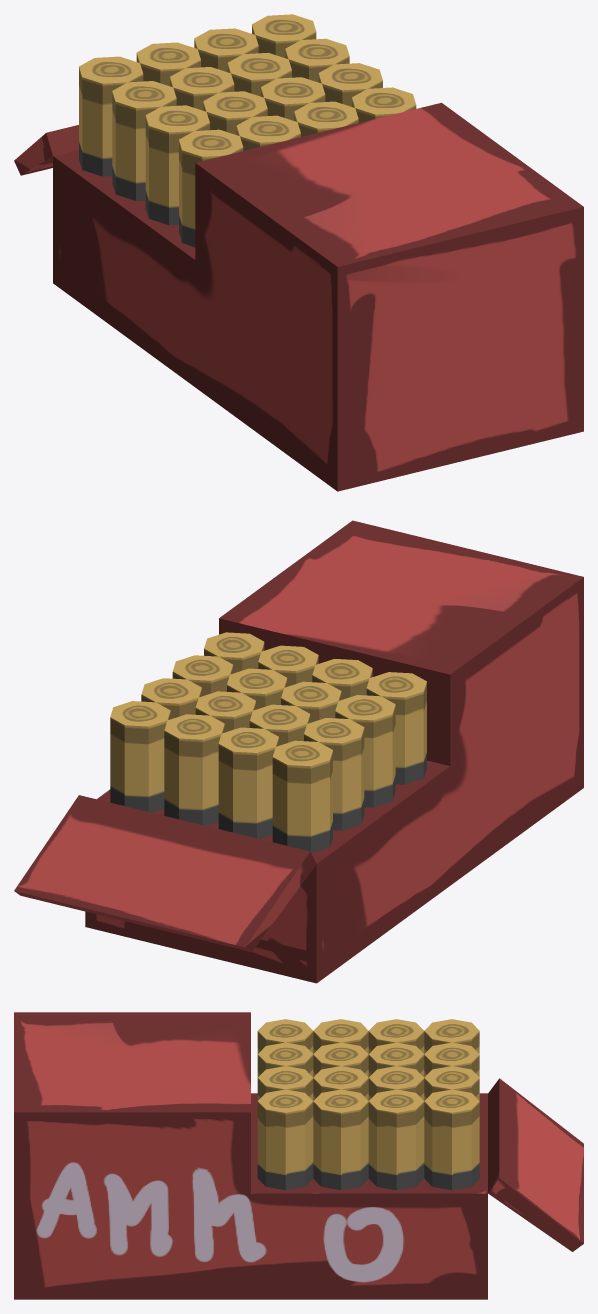
File: db_Ammo.glb
3 views of the same model, one above another, from view 1: azimuth 30°, elevation 25°; view 2: azimuth 150°, elevation 25°; view 3: azimuth 270°, elevation 25° (orthographic). The views are drawn at different scales.
Visible parts, largest first — view 1: ammobox; view 2: ammobox; view 3: ammobox.
Part boxes in pixels (x1,y1,x2,y2): ammobox: (14,14,583,491); ammobox: (14,520,583,983); ammobox: (14,1012,583,1299).
Bounding box in the file's own units: 0.0918 × 0.0744 × 0.2054.
Materials: 1 (1 with a texture image).
